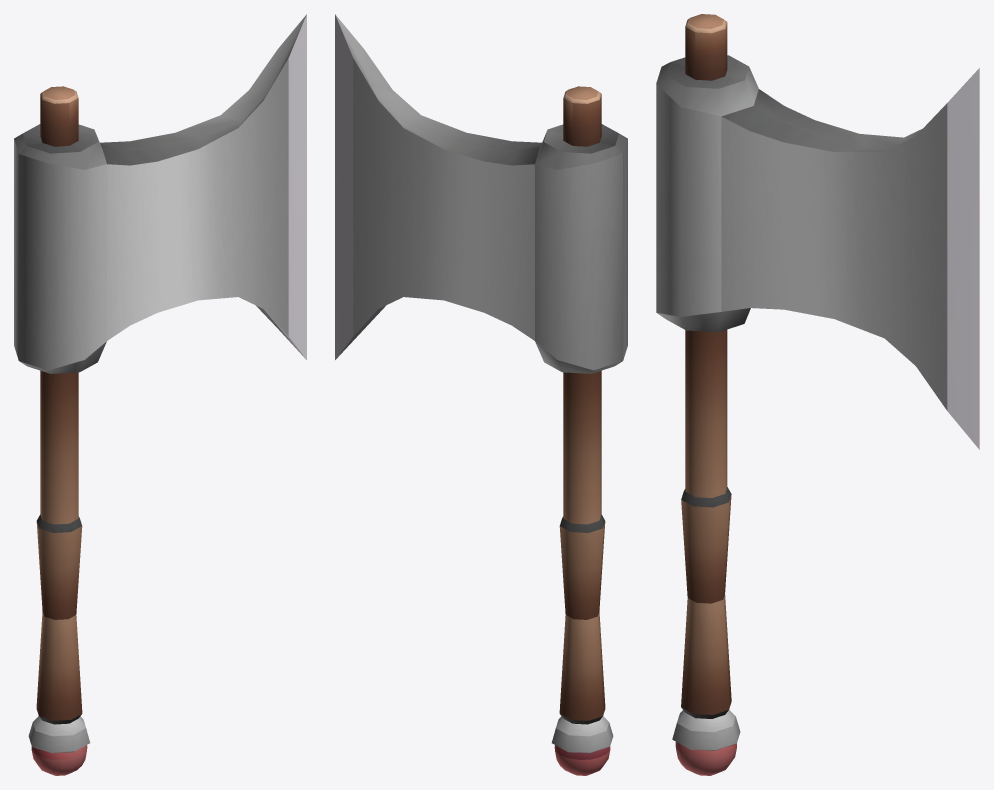
The model's file is Prop_Weapons_Axe.fbx.
3 views of the same model, side by side, from view 1: azimuth 30°, elevation 25°; view 2: azimuth 150°, elevation 25°; view 3: azimuth 330°, elevation 25° (orthographic). The views are drawn at different scales.
Visible parts, largest first — view 1: Axe_01; view 2: Axe_01; view 3: Axe_01.
Part boxes in pixels (x1,y1,x2,y2): Axe_01: [14, 14, 306, 775]; Axe_01: [335, 14, 627, 775]; Axe_01: [656, 14, 979, 775].
Size of the model in its own units: 59.14 by 137 by 17.13.
